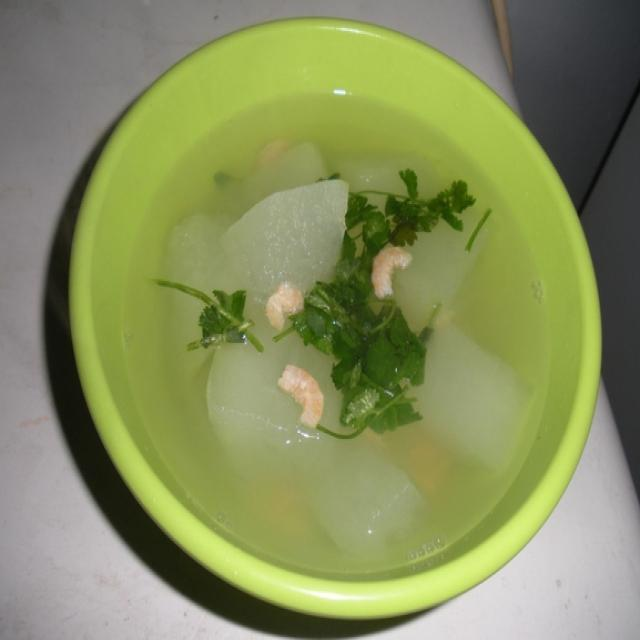汤锅炖物: (63, 24, 591, 624)
